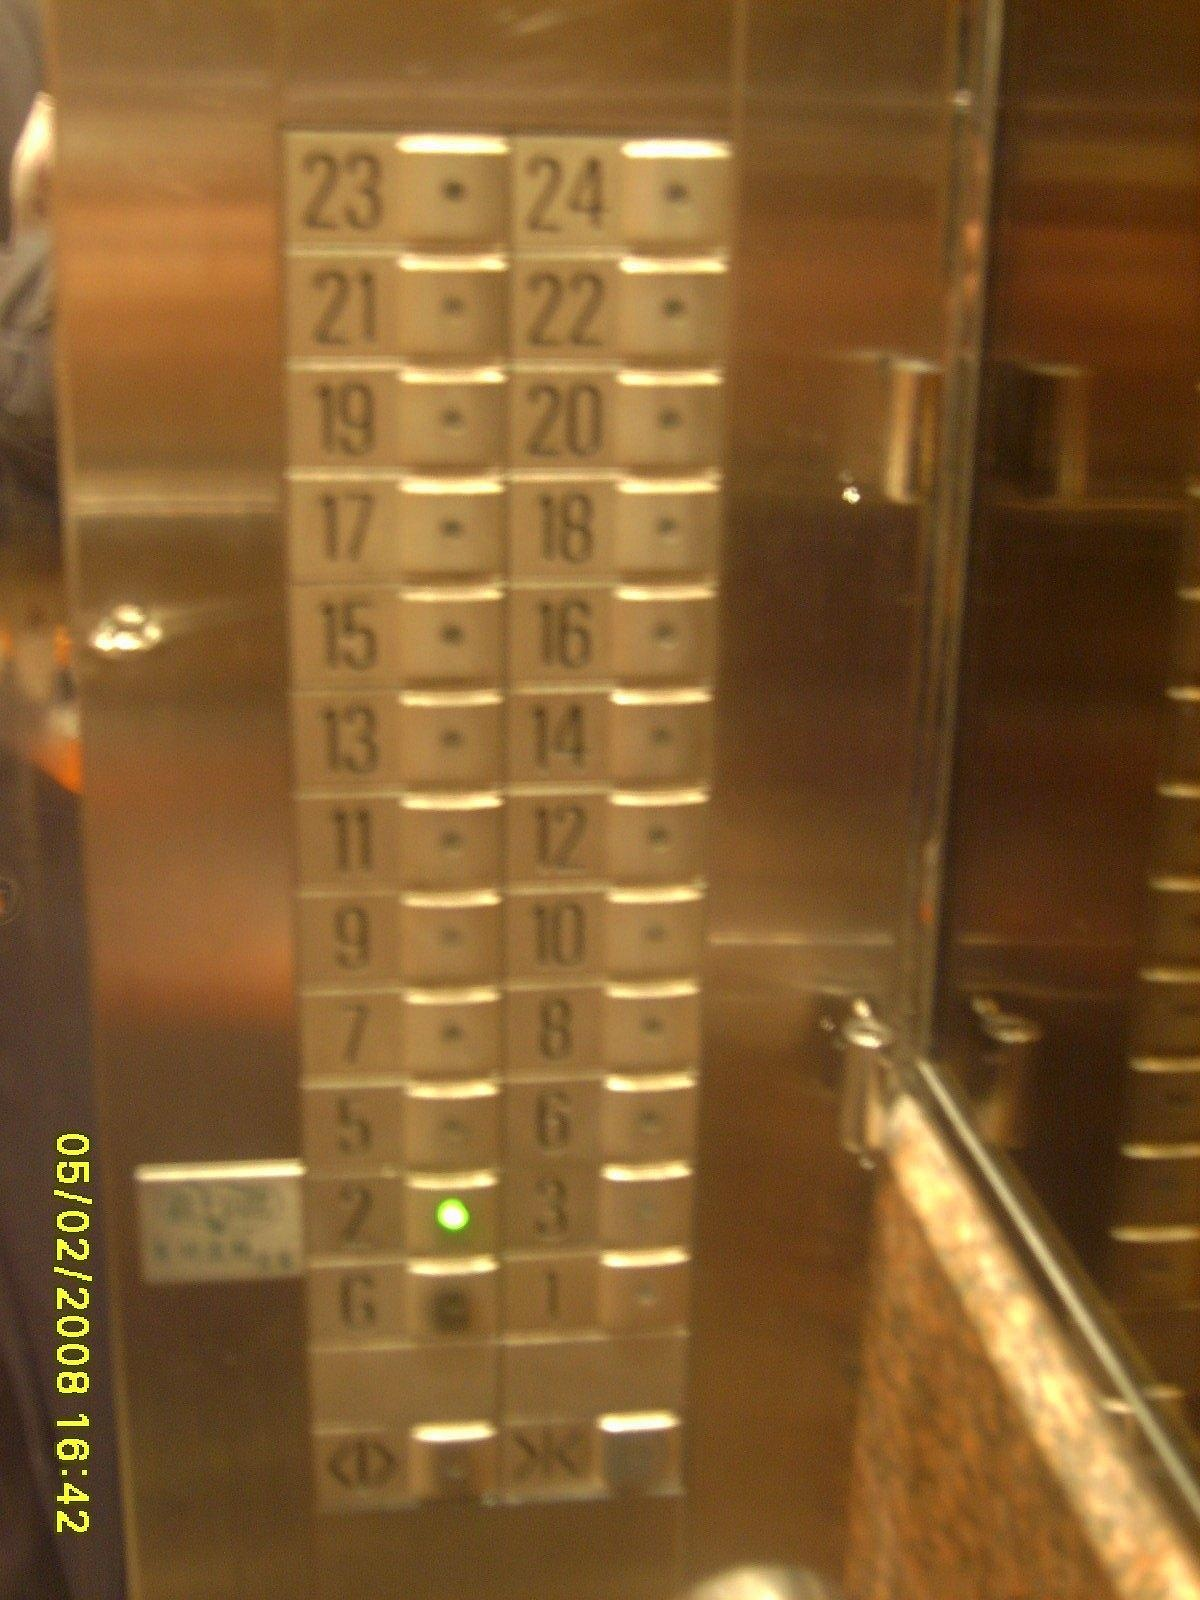1: (505, 1242, 700, 1351)
10: (504, 882, 717, 994)
11: (284, 787, 505, 905)
12: (502, 786, 718, 903)
13: (279, 689, 507, 801)
14: (504, 685, 722, 806)
15: (276, 580, 511, 703)
16: (508, 578, 732, 697)
17: (275, 472, 516, 595)
18: (507, 469, 732, 591)
19: (276, 360, 512, 481)
2: (285, 1168, 500, 1274)
20: (505, 358, 739, 488)
21: (263, 244, 512, 367)
22: (502, 257, 744, 367)
23: (274, 123, 517, 249)
24: (511, 127, 746, 249)
3: (503, 1157, 700, 1276)
5: (287, 1076, 505, 1184)
6: (500, 1072, 707, 1187)
7: (285, 980, 507, 1092)
8: (505, 981, 707, 1089)
9: (280, 889, 509, 1003)
G: (291, 1252, 502, 1361)
close: (495, 1401, 697, 1513)
open: (299, 1411, 498, 1518)
